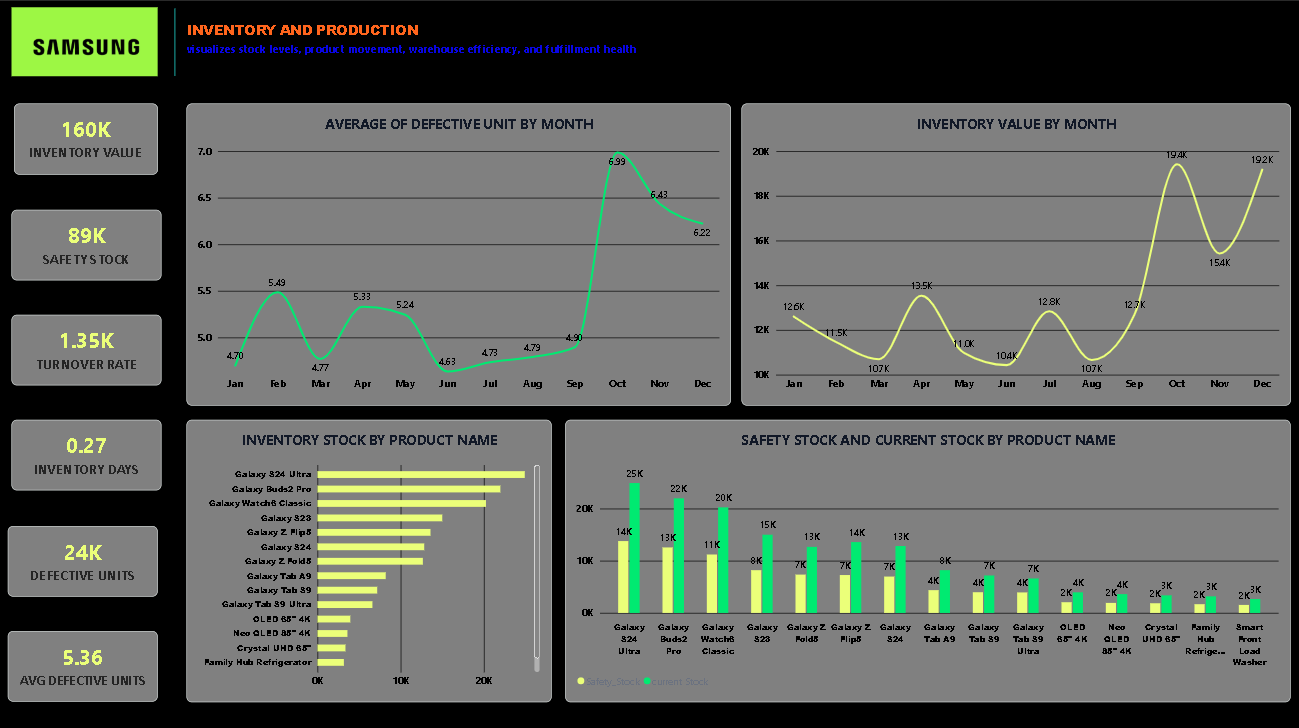

What the dashboard file says about the page in this screenshot:
{"tool":"powerbi","page":{"name":"INVENTORY","canvas":[1920,1080],"ordinal":3},"visuals":[{"type":"cardVisual","fields":{"Data":["MeasureTable.Safety_Stock"]},"box":[18.1,306.6,221,104],"z":0},{"type":"shape","box":[171.2,11,175.5,99.5],"z":1000},{"type":"image","box":[18.4,9.2,215.3,101.2],"z":2000},{"type":"textbox","title":"INVENTORY AND PRODUCTION","box":[276.1,27.6,671.4,67],"z":3000},{"type":"cardVisual","fields":{"Data":["MeasureTable.Turnover_rate"]},"box":[18.1,462,221,104],"z":4000},{"type":"cardVisual","fields":{"Data":["MeasureTable.Days_of_inventory"]},"box":[18.1,617.5,221,104],"z":5000},{"type":"cardVisual","fields":{"Data":["Sum(fact_production.defective_units)"]},"box":[12.7,772.9,221,104],"z":6000},{"type":"cardVisual","fields":{"Data":["MeasureTable.Inventory_Value"]},"box":[21.7,150.2,211.7,105],"z":7000},{"type":"cardVisual","fields":{"Data":["Avg(fact_production.defective_units)"]},"box":[12.7,928.4,221,104],"z":8000},{"type":"barChart","title":"INVENTORY STOCK BY PRODUCT NAME","fields":{"Category":["dim_product.product_name"],"Y":["MeasureTable.Inventory_Value"]},"box":[276.9,617.1,537.5,416.2],"z":9000},{"type":"clusteredColumnChart","title":"SAFETY STOCK AND CURRENT STOCK BY PRODUCT NAME","fields":{"Category":["dim_product.product_name"],"Y":["MeasureTable.Safety_Stock","MeasureTable.Inventory_Value"]},"box":[834.3,617.1,1067.7,416.2],"z":10000},{"type":"lineChart","title":"AVERAGE OF DEFECTIVE UNIT BY MONTH","fields":{"Category":["dim_date.Month_short"],"Y":["Avg(fact_production.defective_units)"]},"box":[276.9,150.2,801.7,445.2],"z":11000},{"type":"lineChart","title":"INVENTORY VALUE BY MONTH","fields":{"Category":["dim_date.Month_short"],"Y":["MeasureTable.Inventory_Value"]},"box":[1093,150.2,808.9,445.2],"z":12000}]}

Visuals, with their boxes in screenshot pixels (x1, y1, x2, y2), scaled from the page's 1920x1080 canvas onto the 1299x728 screenshot:
cardVisual - MeasureTable.Safety_Stock: x1=12 y1=207 x2=162 y2=277
shape: x1=116 y1=7 x2=235 y2=74
image: x1=12 y1=6 x2=158 y2=74
"INVENTORY AND PRODUCTION" textbox: x1=187 y1=19 x2=641 y2=64
cardVisual - MeasureTable.Turnover_rate: x1=12 y1=311 x2=162 y2=382
cardVisual - MeasureTable.Days_of_inventory: x1=12 y1=416 x2=162 y2=486
cardVisual - Sum(fact_production.defective_units): x1=9 y1=521 x2=158 y2=591
cardVisual - MeasureTable.Inventory_Value: x1=15 y1=101 x2=158 y2=172
cardVisual - Avg(fact_production.defective_units): x1=9 y1=626 x2=158 y2=696
"INVENTORY STOCK BY PRODUCT NAME" barChart: x1=187 y1=416 x2=551 y2=697
"SAFETY STOCK AND CURRENT STOCK BY PRODUCT NAME" clusteredColumnChart: x1=564 y1=416 x2=1287 y2=697
"AVERAGE OF DEFECTIVE UNIT BY MONTH" lineChart: x1=187 y1=101 x2=730 y2=401
"INVENTORY VALUE BY MONTH" lineChart: x1=739 y1=101 x2=1287 y2=401
